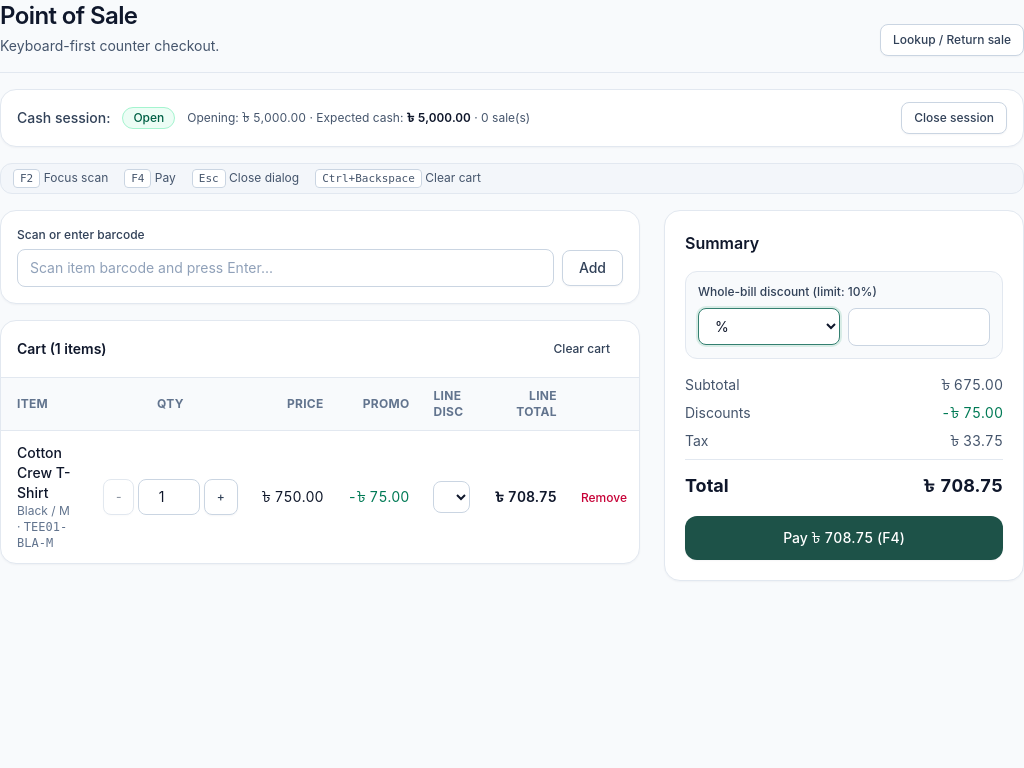
Scenario: POS & Sales History flows › validates single-method payments, exchanges approval PIN for token, reconciles server EOD summary, and marks reprint DUPLICATE
The image size is (1024, 768).
Earlier steps of the test are not shown.
Later steps or results of the test are not shown.
Step 1. Type "20" into the number field named "Bill discount value" → (919, 327), box [848, 308, 990, 346]
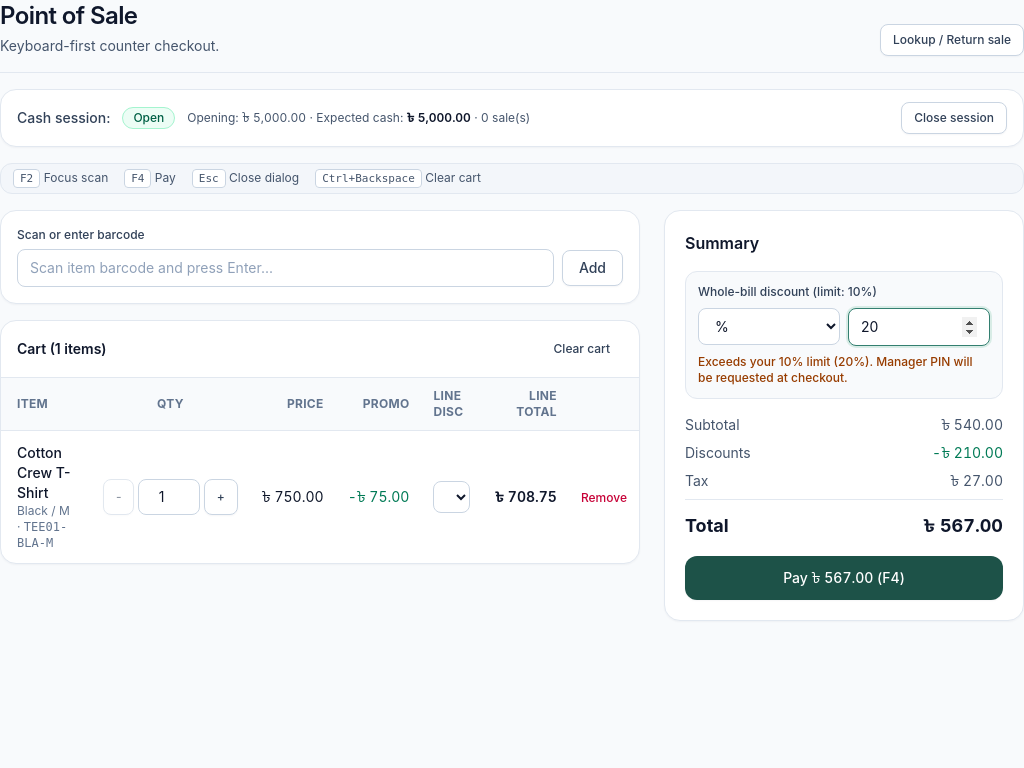
Expected: the text "Exceeds your 10% limit" is shown, [698, 354, 990, 386]
Step 2. Click the button "Pay ৳ 567.00 (F4)" → (844, 578), box [685, 556, 1003, 600]
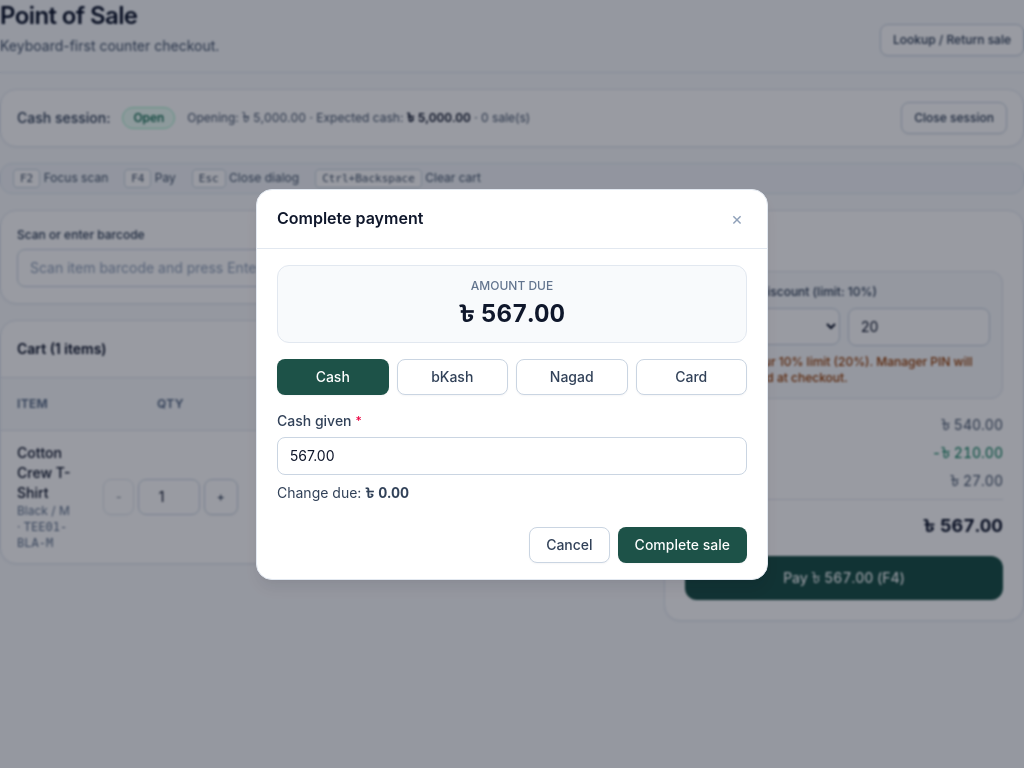
Step 3. Click the button "bKash" → (452, 376), box [396, 358, 508, 394]
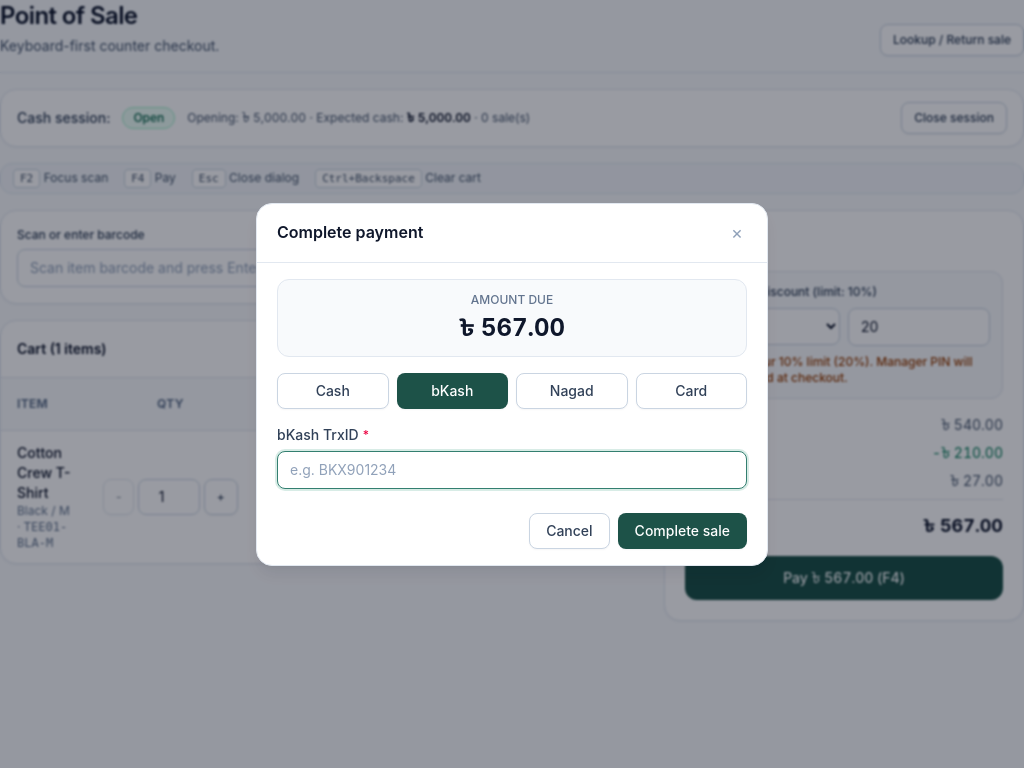
Step 4. Click the button "Complete sale" → (682, 530), box [618, 512, 747, 548]
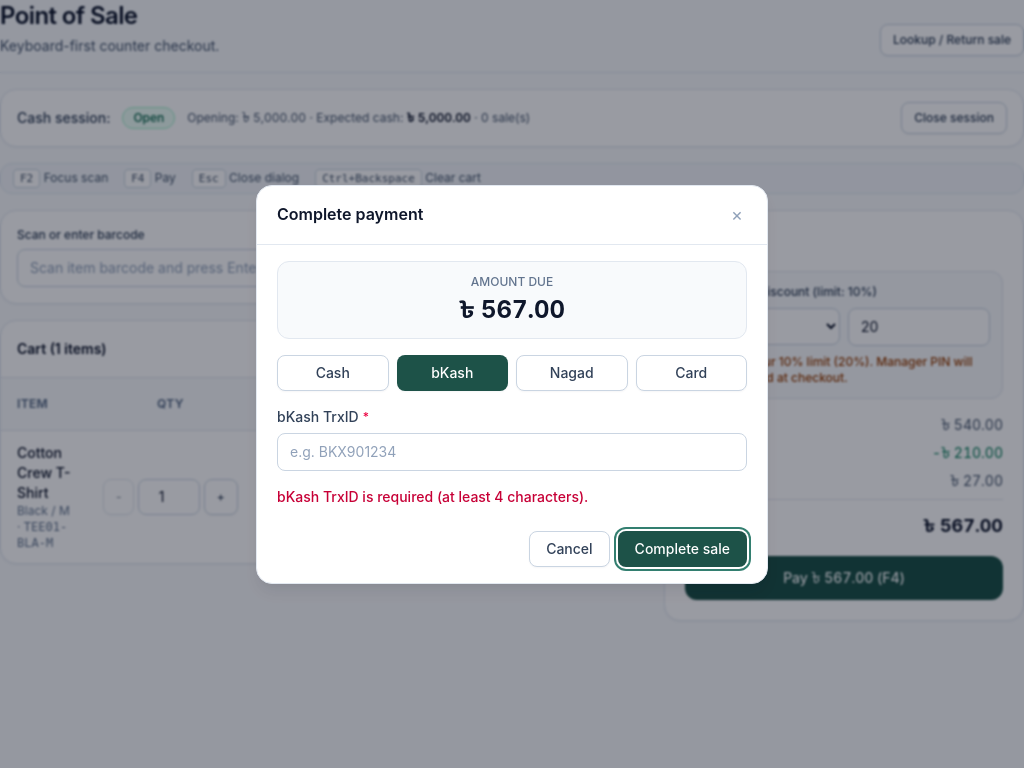
Expected: the message shows "TrxID is required", [277, 488, 588, 504]
Step 5. Click the button "Card" → (691, 372), box [636, 354, 747, 390]
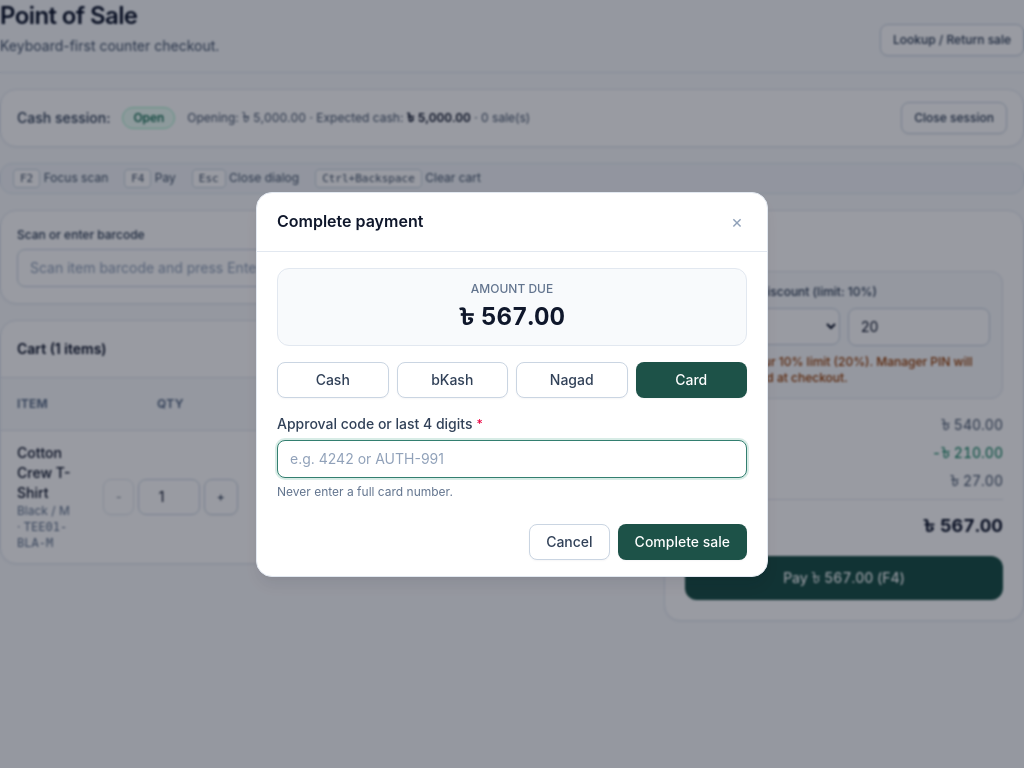
Step 6. Type "4111111111111111" into the field labelled "Approval code or last 4 digits" → (512, 458), box [277, 440, 747, 478]
Step 7. Click the button "Complete sale" → (682, 542), box [618, 524, 747, 560]
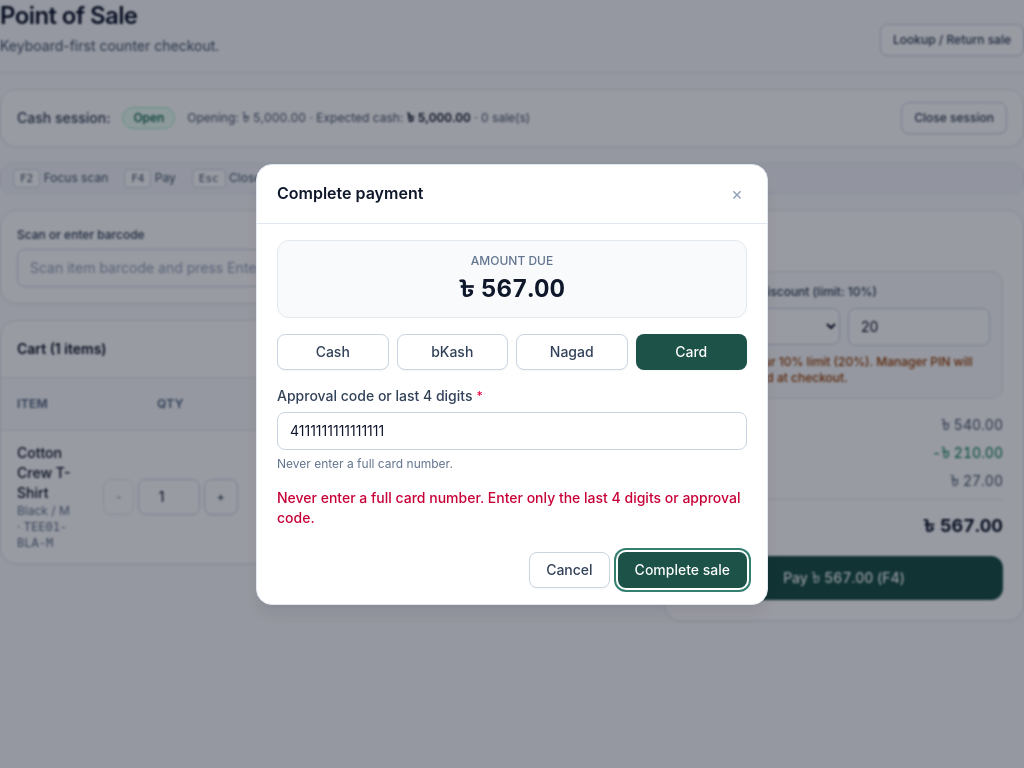
Expected: the message shows "Never enter a full card number", [277, 488, 740, 526]
